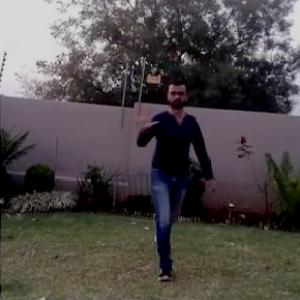follow_hand: (134, 102, 158, 130)
